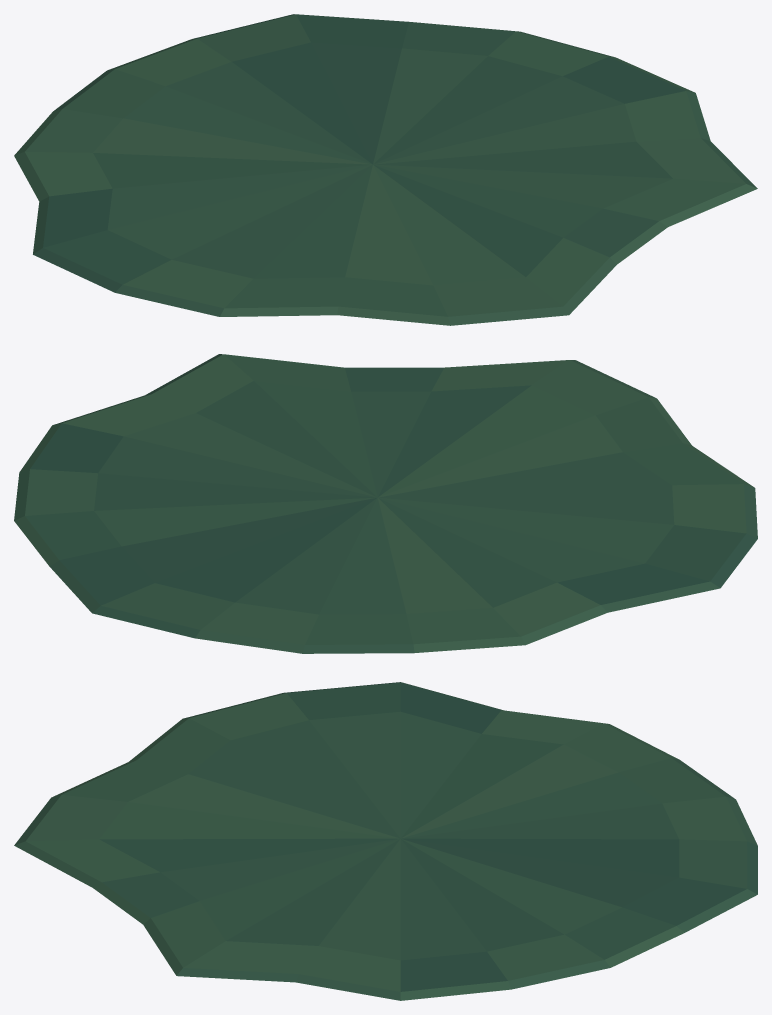
File: campo_canteiro.fbx
3 renders of one model, top to bottom at view 1: azimuth 30°, elevation 25°; view 2: azimuth 150°, elevation 25°; view 3: azimuth 270°, elevation 25°, orthographic. The views are drawn at different scales.
Parts seen in each view (by area): view 1: campo_canteiro; view 2: campo_canteiro; view 3: campo_canteiro.
Boxes of the visible parts, x1=… form: campo_canteiro: x1=14, y1=14, x2=757, y2=325; campo_canteiro: x1=14, y1=354, x2=757, y2=653; campo_canteiro: x1=14, y1=682, x2=757, y2=1000.
Bounding box in the file's own units: 20.63 × 0.21 × 20.35.
